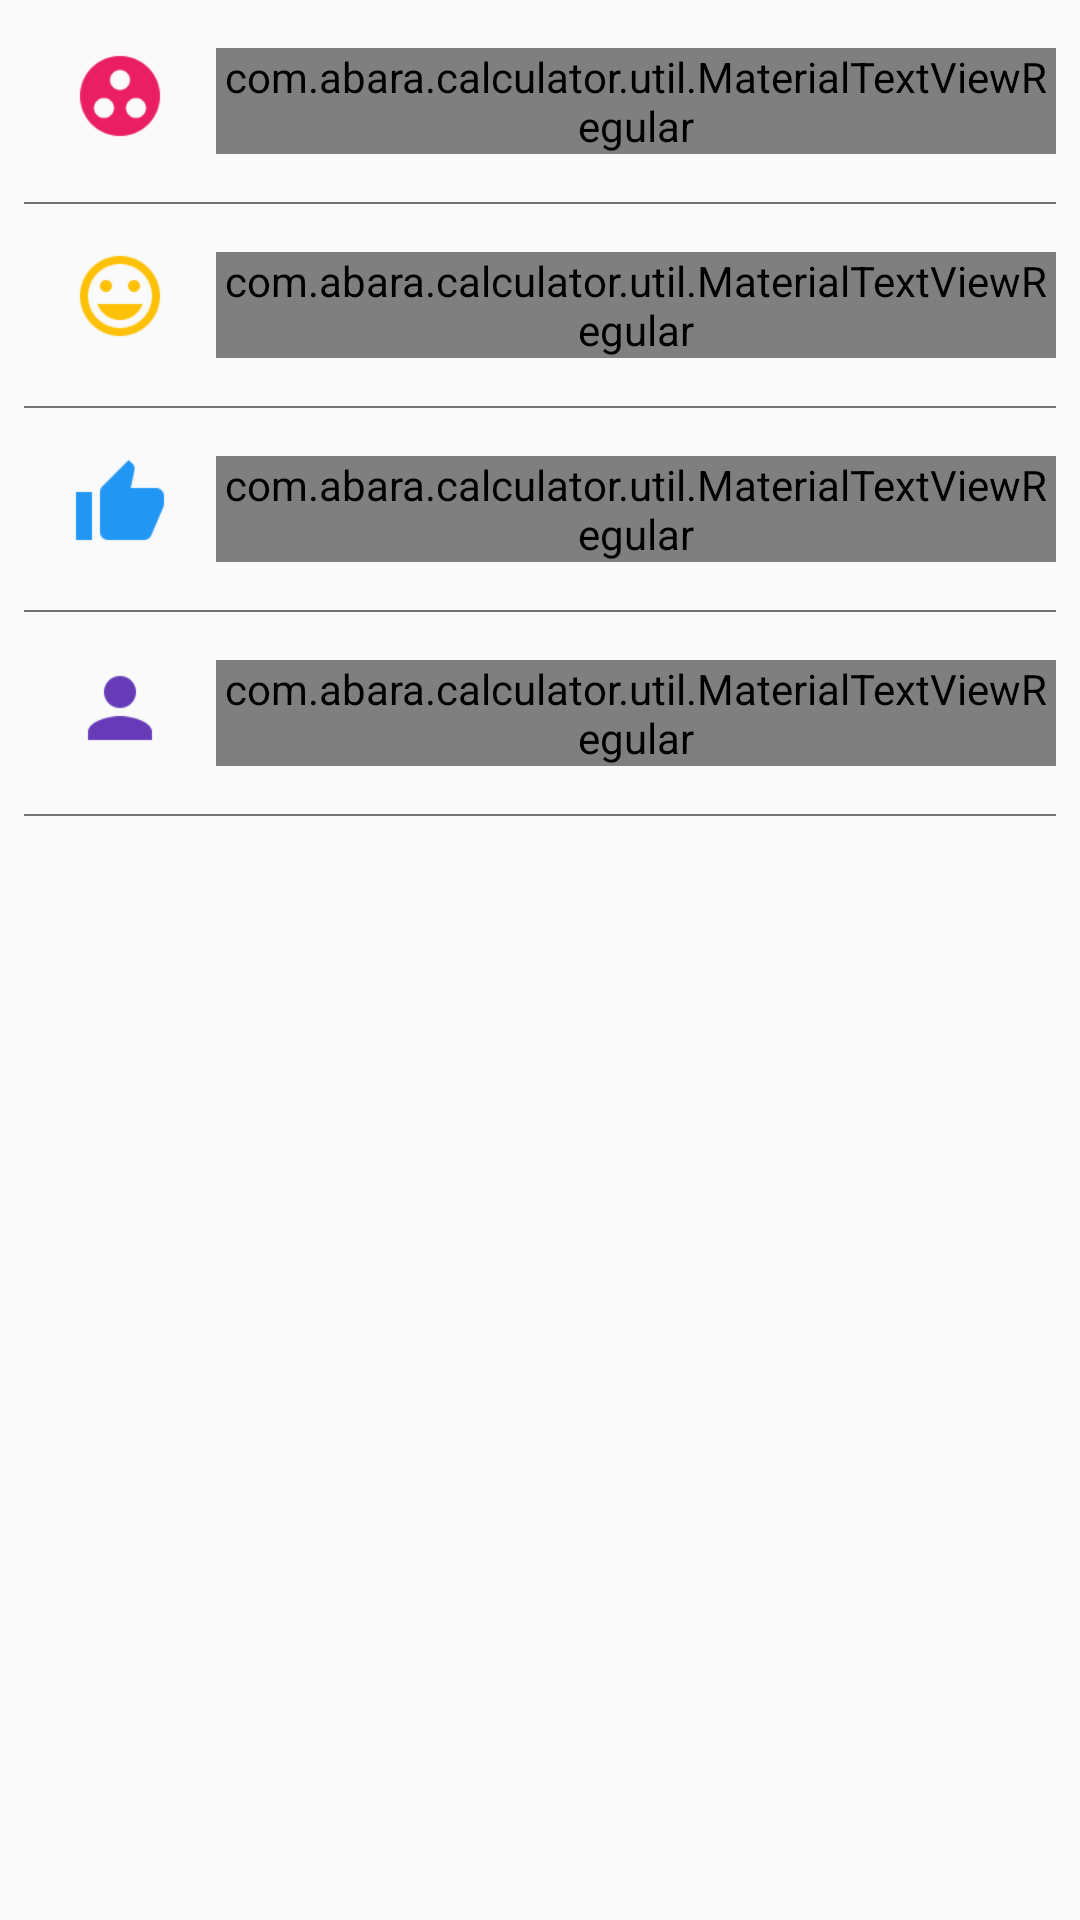

Where to tap for icons on this 1080×1920 app screen, as (x,y):
like rate: (120,500)
